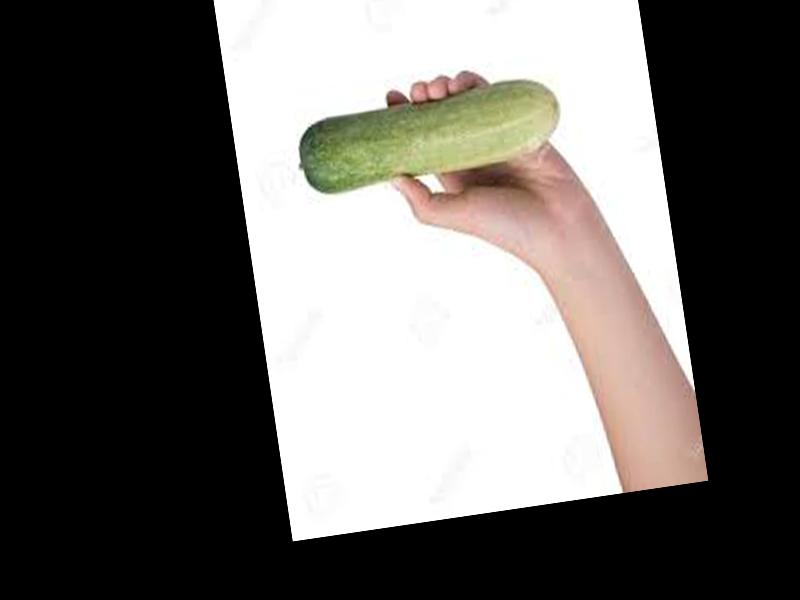Cucumber: (290, 76, 569, 203)
